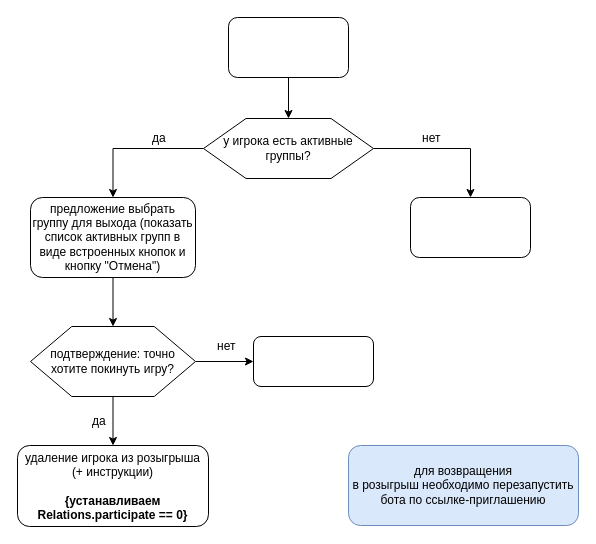
Image size: 596x544. Some labels were removed from this diagram. The shapes that lost their labels are listed below. From the top down, each one's centre as x and y in pixels, then its label:
At (x=288, y=47): "запрос на отмену участия через /leavegame".
At (x=470, y=227): "сообщение: нельзя выйти оттуда, куда не входил...".
At (x=313, y=361): "какое-нибудь забавное сообщение / стикер".
